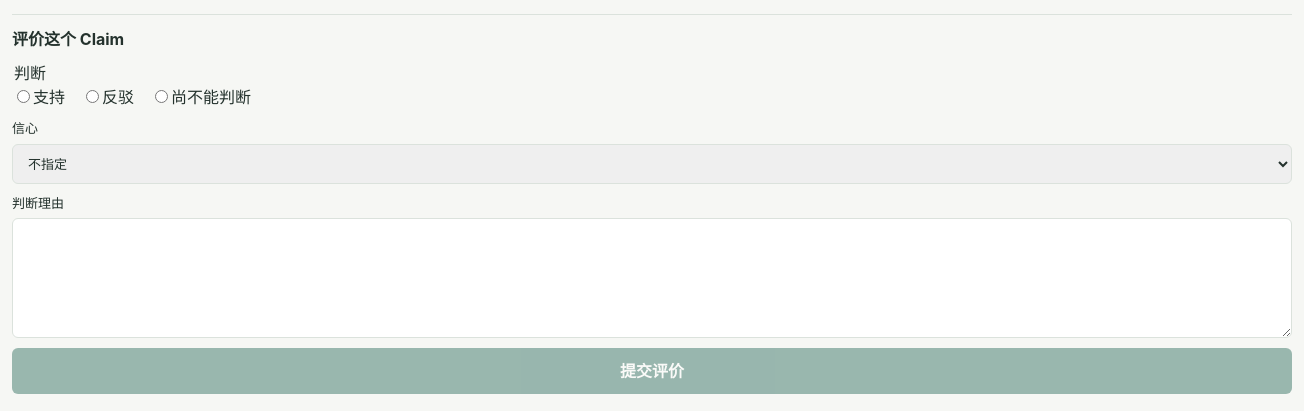
Test: submit gate › requires current preview + stance + valid reasoning, but confidence is optional
Expected: the button "提交评价" is disabled, [12,348,1292,394]
Click the radio button labelled "支持": click(24, 96) [17,90,30,103]
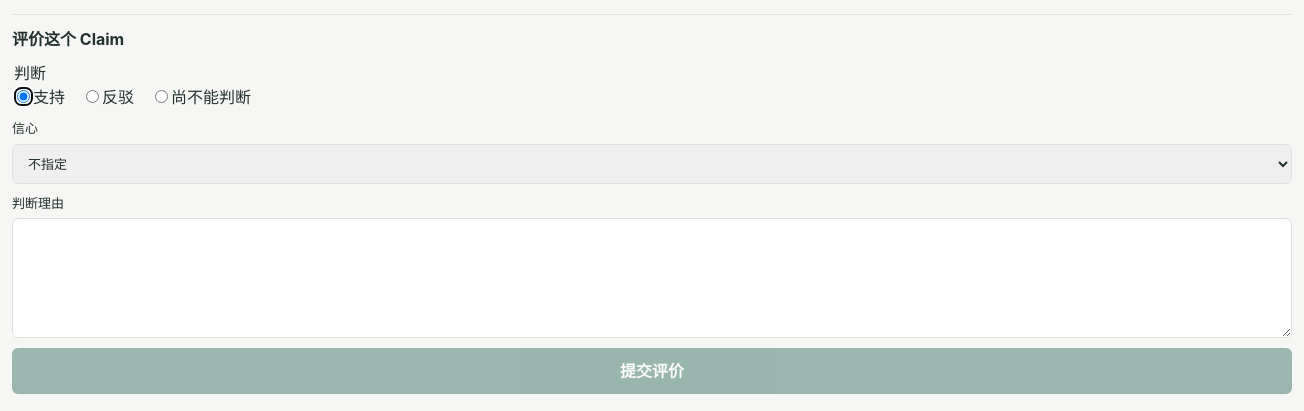
Expected: the button "提交评价" is disabled, [12,348,1292,394]
In the text box labelled "判断理由": (652, 278) [12,218,1292,338], type "当前证据支持。"
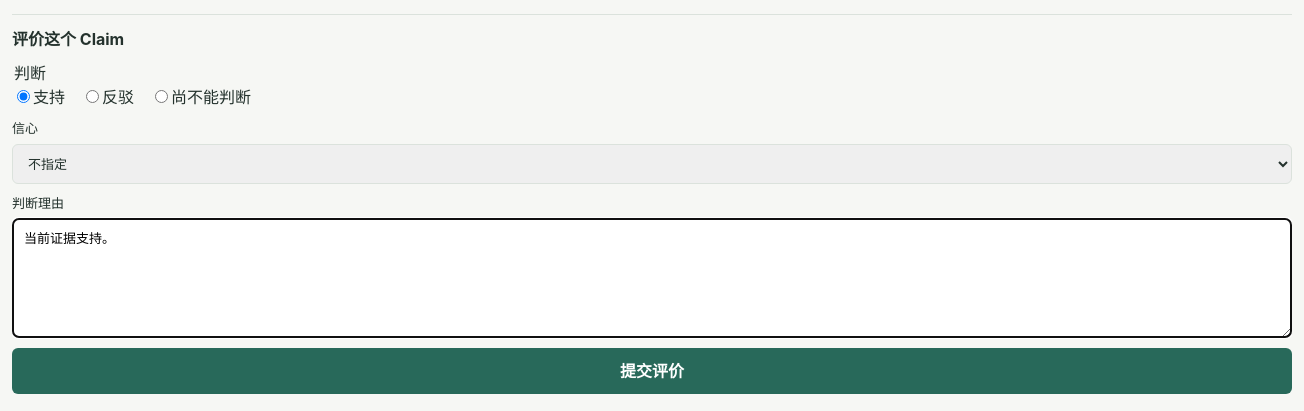
Expected: the dropdown labelled "信心" shows "不指定", [12,144,1292,184]
Now the button "提交评价" is enabled, box [12,348,1292,394]
